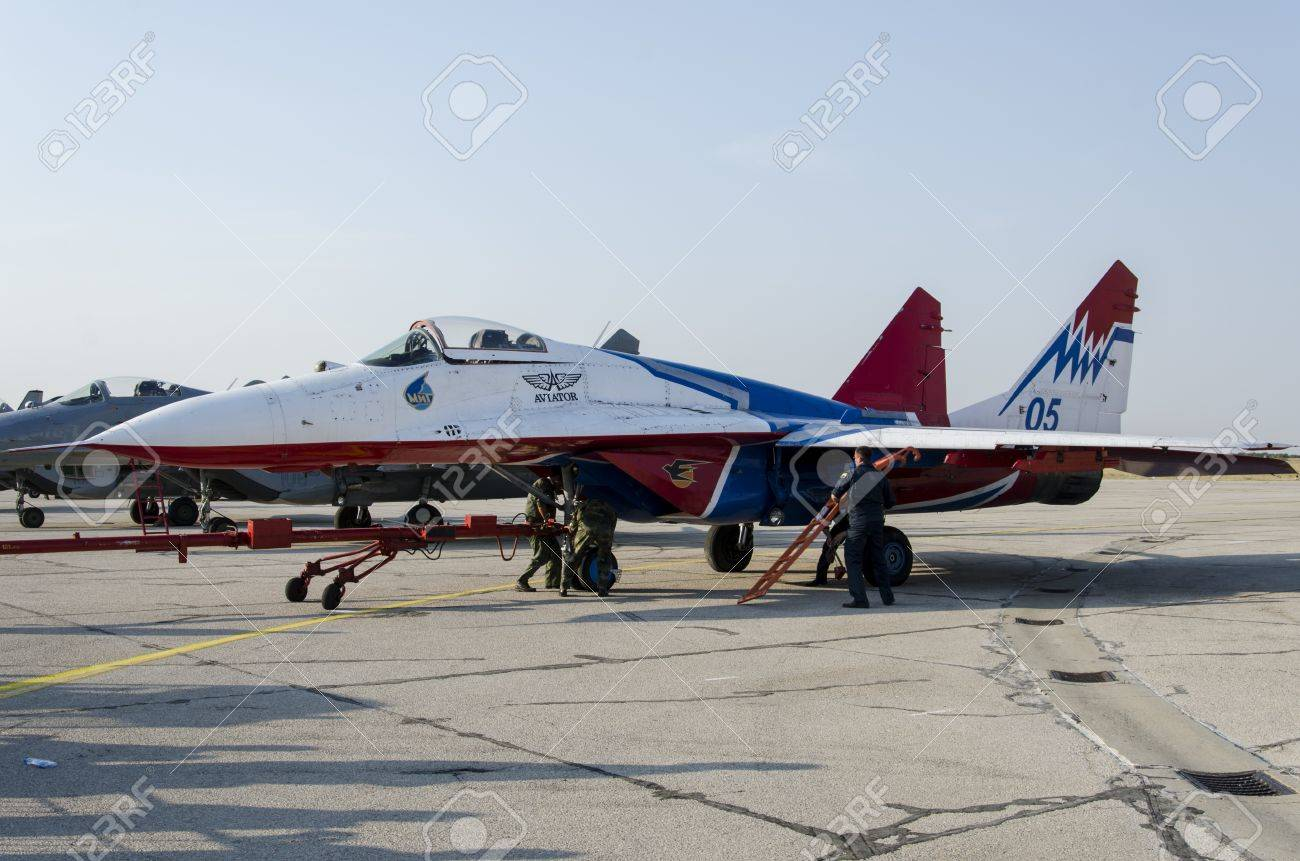Mig-29: (116, 308, 1160, 580)
